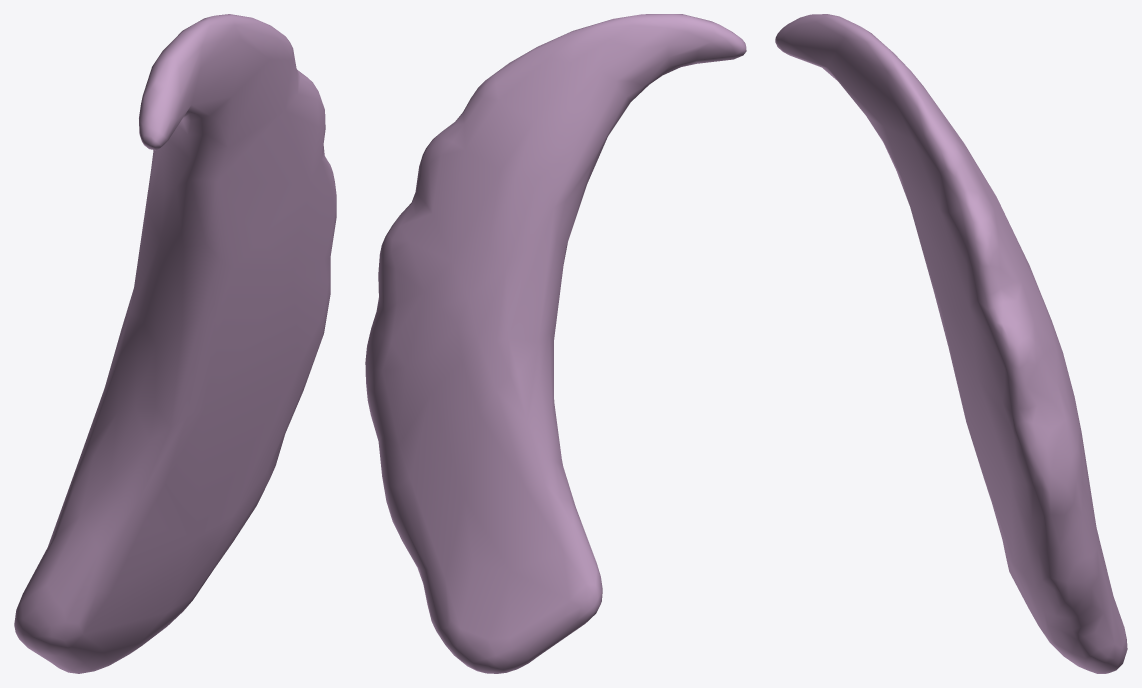
The picture shows the model from 3 angles, left to right: view 1: azimuth 30°, elevation 25°; view 2: azimuth 150°, elevation 25°; view 3: azimuth 270°, elevation 25°; orthographic projection. The views are drawn at different scales.
Parts seen in each view (by area): view 1: 左侧海马; view 2: 左侧海马; view 3: 左侧海马.
Part boxes in pixels (<box>): 左侧海马: <box>14,14,336,673</box>; 左侧海马: <box>365,14,746,673</box>; 左侧海马: <box>775,14,1127,673</box>.
Size of the model in its own units: 0.0286 by 0.0613 by 0.0314.
